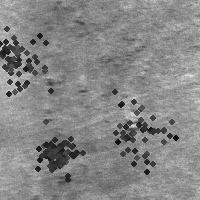rolled-in_scale: (77, 70, 193, 186), (88, 34, 147, 135), (0, 13, 54, 107), (28, 124, 86, 182)
